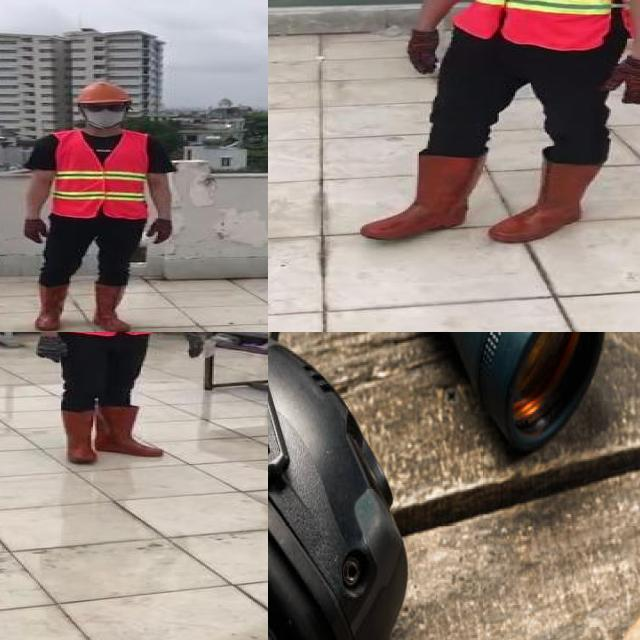Ear-protection: (268, 332, 409, 640)
boots: (358, 152, 484, 242), (492, 153, 593, 242), (95, 404, 162, 455), (88, 282, 136, 332), (61, 407, 97, 468), (30, 282, 69, 331)
face_mask: (82, 102, 127, 126)
glasses: (82, 102, 126, 114)
hand_glove: (600, 57, 640, 105), (406, 29, 438, 74), (33, 334, 68, 364), (176, 332, 206, 359), (146, 218, 174, 245), (21, 218, 51, 242)
head_helmet: (75, 80, 133, 106)
person: (347, 0, 640, 252), (6, 83, 186, 332), (29, 332, 221, 471)
vest: (451, 0, 637, 51), (55, 129, 151, 220)
